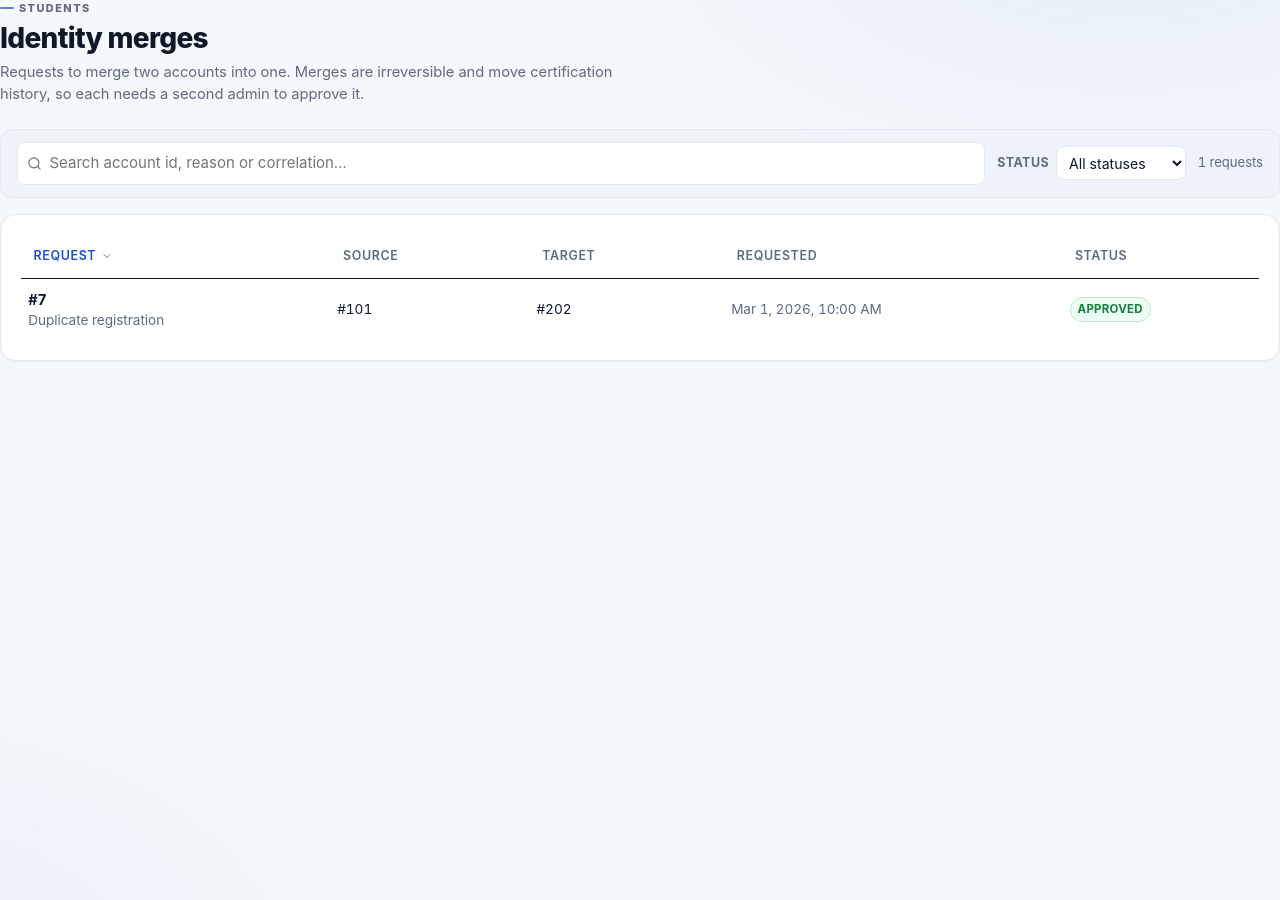
Test case: Identity merges (approval workflow) › offers no decision controls on an already-decided request
Click the button that starts with "Duplicate registration". click: (96, 320)
box: top-left (21, 279), bottom-right (1259, 340)
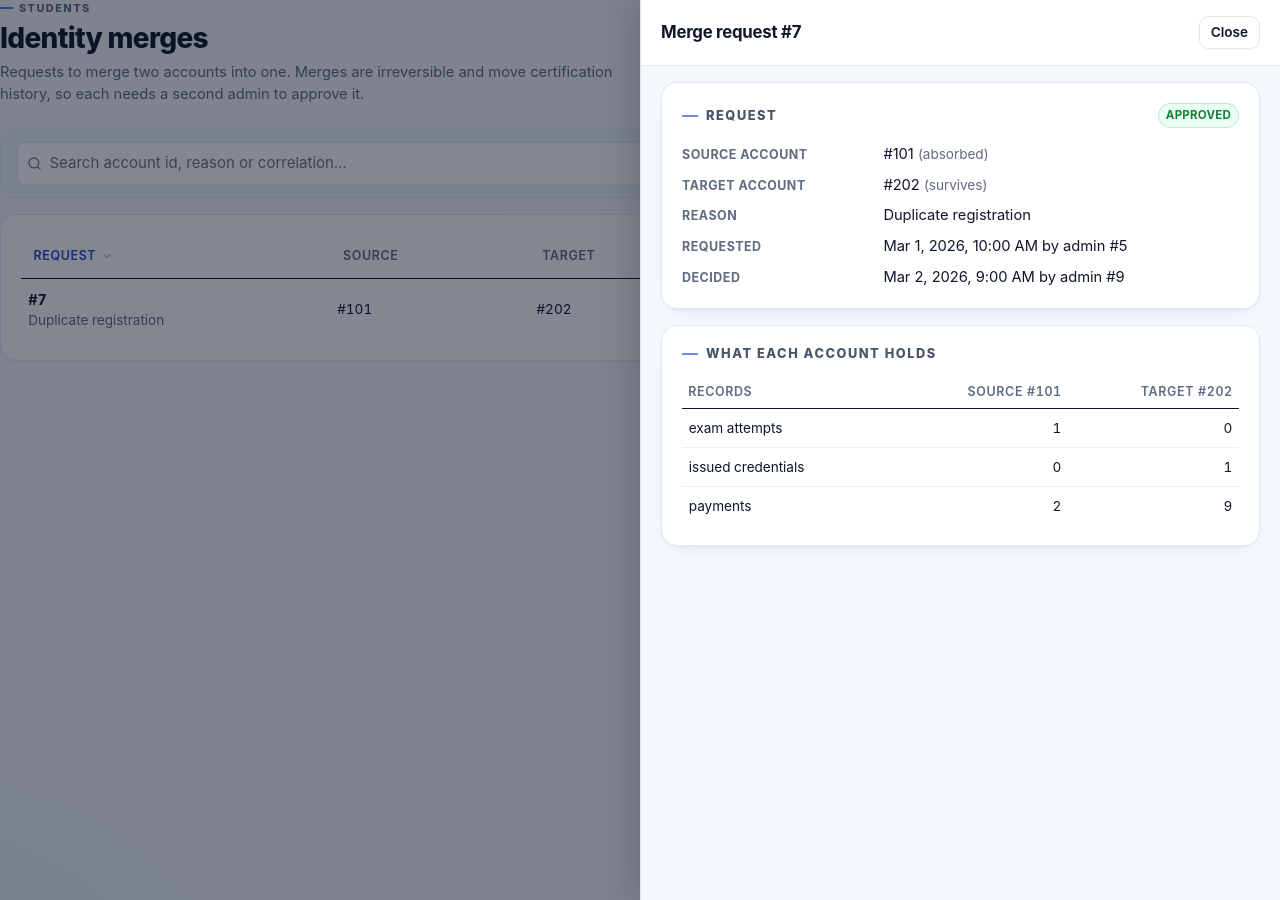
Expected: the dialog is shown, top-left (640, 0), bottom-right (1279, 899)
